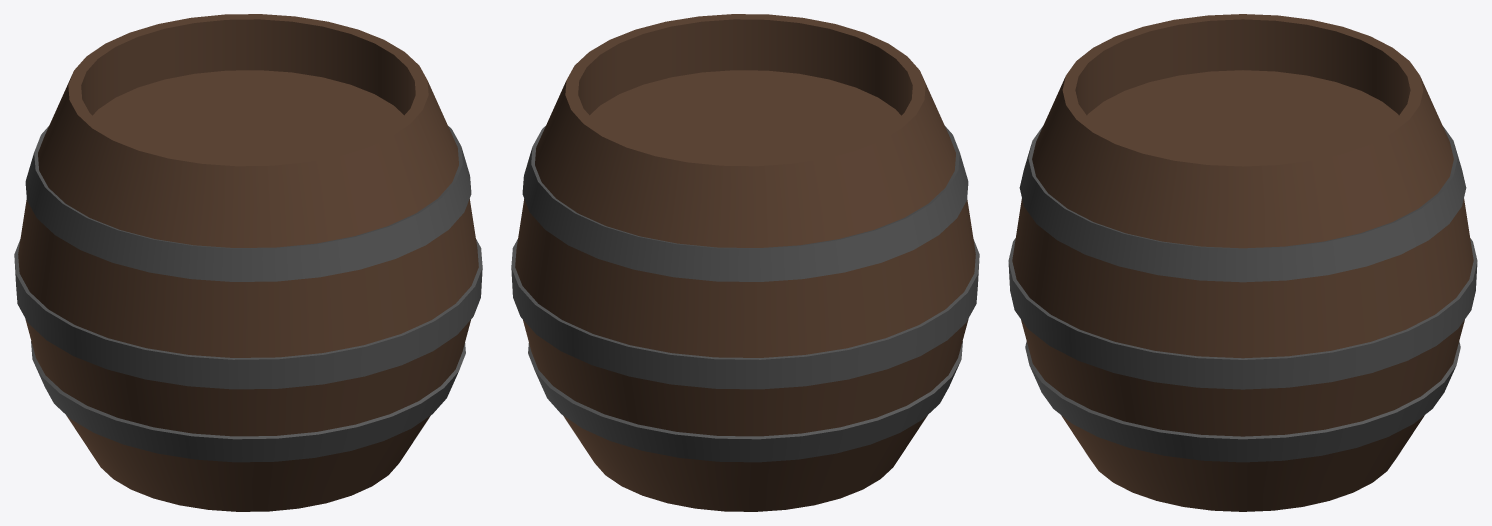
File: Barile L 1 + Coin .fbx
3 views of the same model, side by side, from view 1: azimuth 30°, elevation 25°; view 2: azimuth 150°, elevation 25°; view 3: azimuth 270°, elevation 25° (orthographic).
Parts seen in each view (by area): view 1: S. Barrel 1; view 2: S. Barrel 1; view 3: S. Barrel 1.
Boxes of the visible parts, box(x1,y1,x2,y2) form: S. Barrel 1: box(14, 14, 482, 511); S. Barrel 1: box(511, 14, 979, 511); S. Barrel 1: box(1008, 14, 1477, 511).
Size of the model in its own units: 117 by 97.68 by 117.
